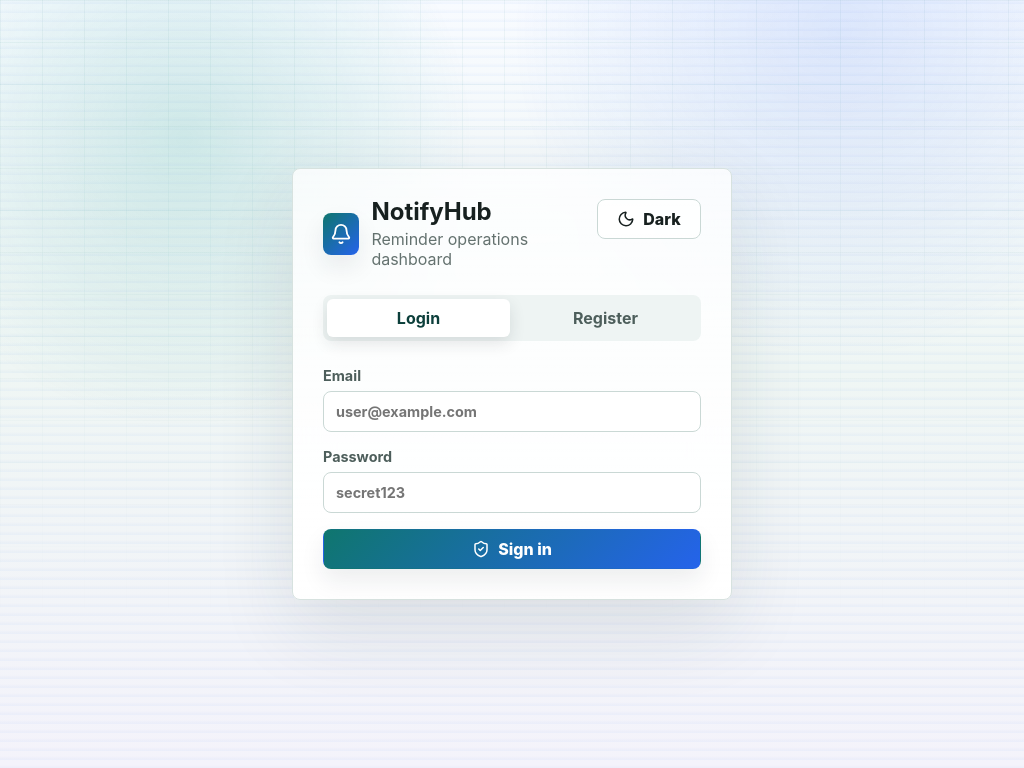
Test: App dashboard › toggles and persists the dark theme preference
Click the button with aria-label "switch to dark theme".
click(649, 219)  # box x1=597 y1=199 x2=701 y2=239
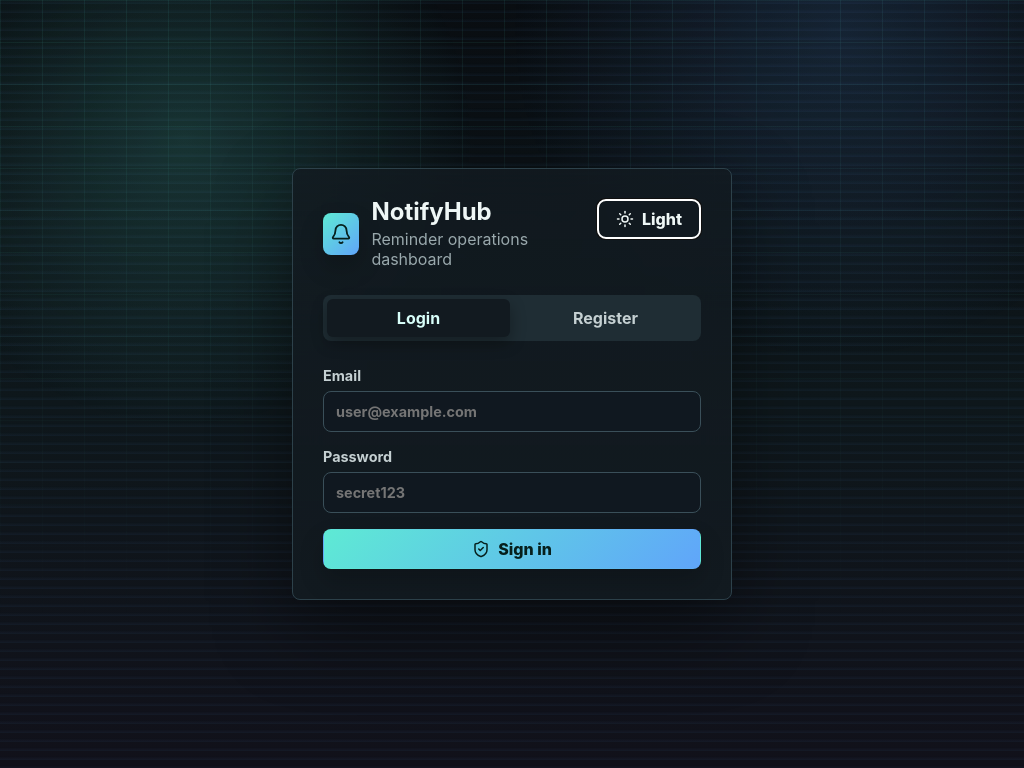
Result: the button with aria-label "switch to light theme" is shown at x1=597 y1=199 x2=701 y2=239
